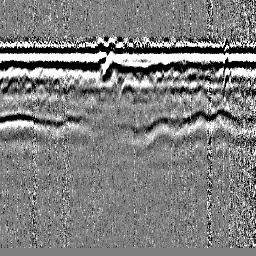cavity: (117, 78, 138, 103)
